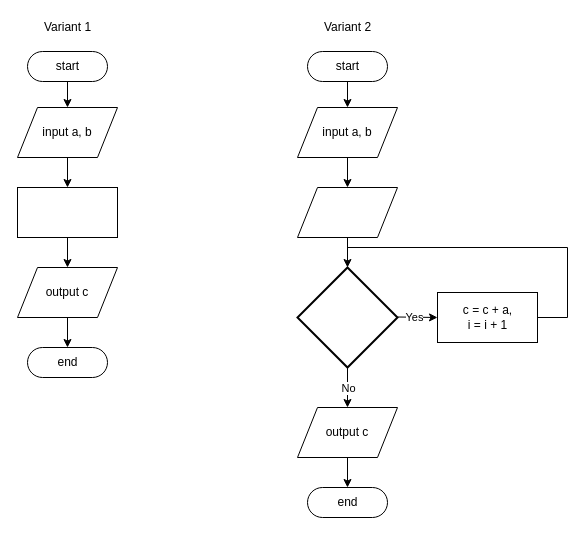
Image size: 586x535. Some labels were removed from this diagram. The box of each missing label's shape, as (x1, y1, x2, y2) in pixels:
c = a * b: (16, 186, 118, 238)
i < b: (296, 266, 398, 368)
i = 0: (296, 186, 398, 238)
